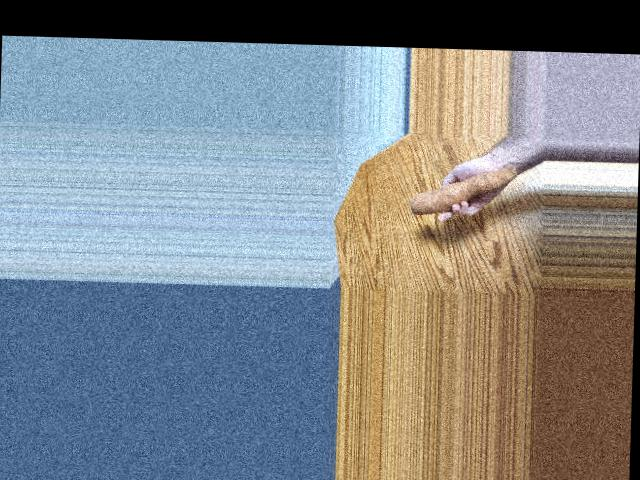sweet_potato: (413, 162, 518, 210)
